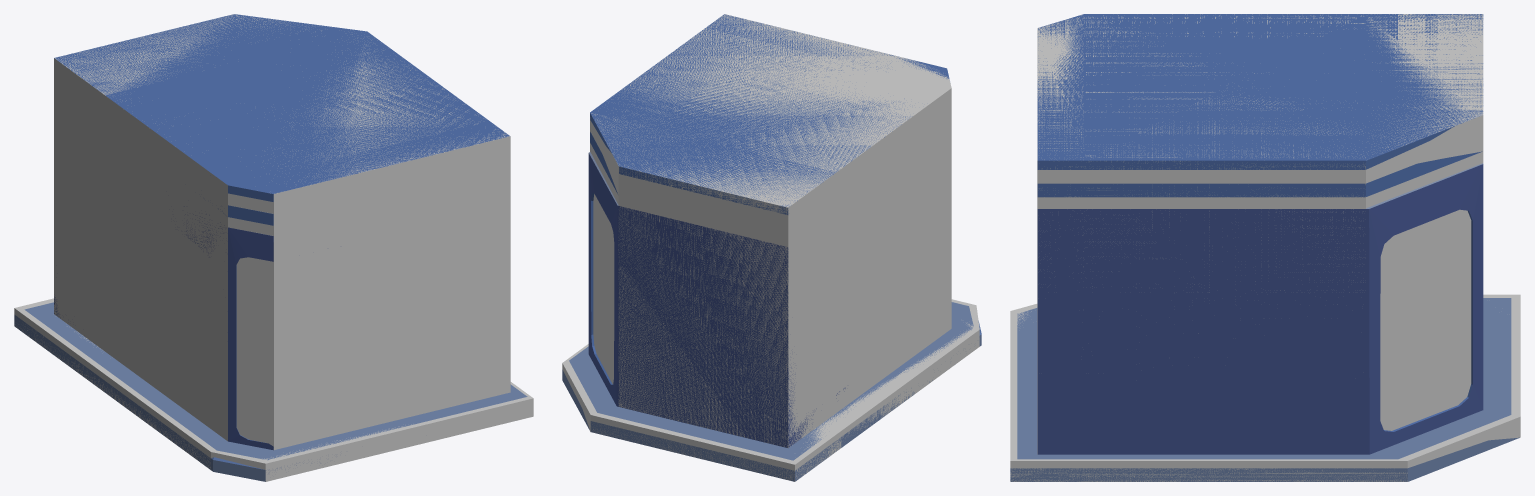
File: SM_Building_11.fbx
3 views of the same model, side by side, from view 1: azimuth 30°, elevation 25°; view 2: azimuth 150°, elevation 25°; view 3: azimuth 270°, elevation 25° (orthographic). The views are drawn at different scales.
Visible parts, largest first — view 1: SM_Building_11_ConvexHulls, SM_Building_11; view 2: SM_Building_11_ConvexHulls, SM_Building_11; view 3: SM_Building_11, SM_Building_11_ConvexHulls.
Part boxes in pixels (bbox=[...]): SM_Building_11_ConvexHulls: bbox=[14, 14, 533, 481]; SM_Building_11: bbox=[14, 14, 527, 481]; SM_Building_11_ConvexHulls: bbox=[562, 14, 979, 481]; SM_Building_11: bbox=[562, 14, 981, 481]; SM_Building_11: bbox=[1010, 14, 1519, 481]; SM_Building_11_ConvexHulls: bbox=[1010, 14, 1520, 481].
Size of the model in its own units: 544 by 705 by 480.
Materials: 2 (1 with a texture image).
